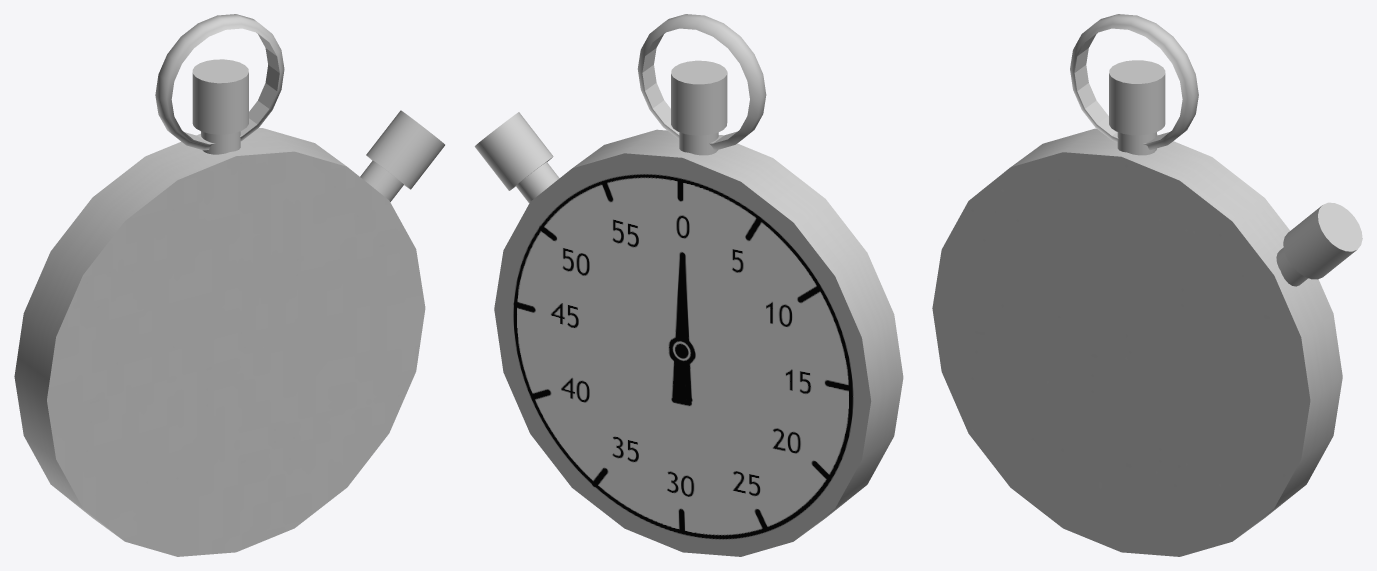
Rendered from Stopwatch.fbx.
3 renders of one model, left to right at view 1: azimuth 30°, elevation 25°; view 2: azimuth 150°, elevation 25°; view 3: azimuth 330°, elevation 25°, orthographic.
Parts seen in each view (by area): view 1: pCylinder7; view 2: pCylinder7; view 3: pCylinder7.
Boxes of the visible parts, x1=… form: pCylinder7: x1=14, y1=14, x2=444, y2=556; pCylinder7: x1=474, y1=14, x2=903, y2=556; pCylinder7: x1=932, y1=14, x2=1362, y2=556.
Size of the model in its own units: 2.16 by 2.65 by 0.2964.
Materials: 2 (1 with a texture image).
